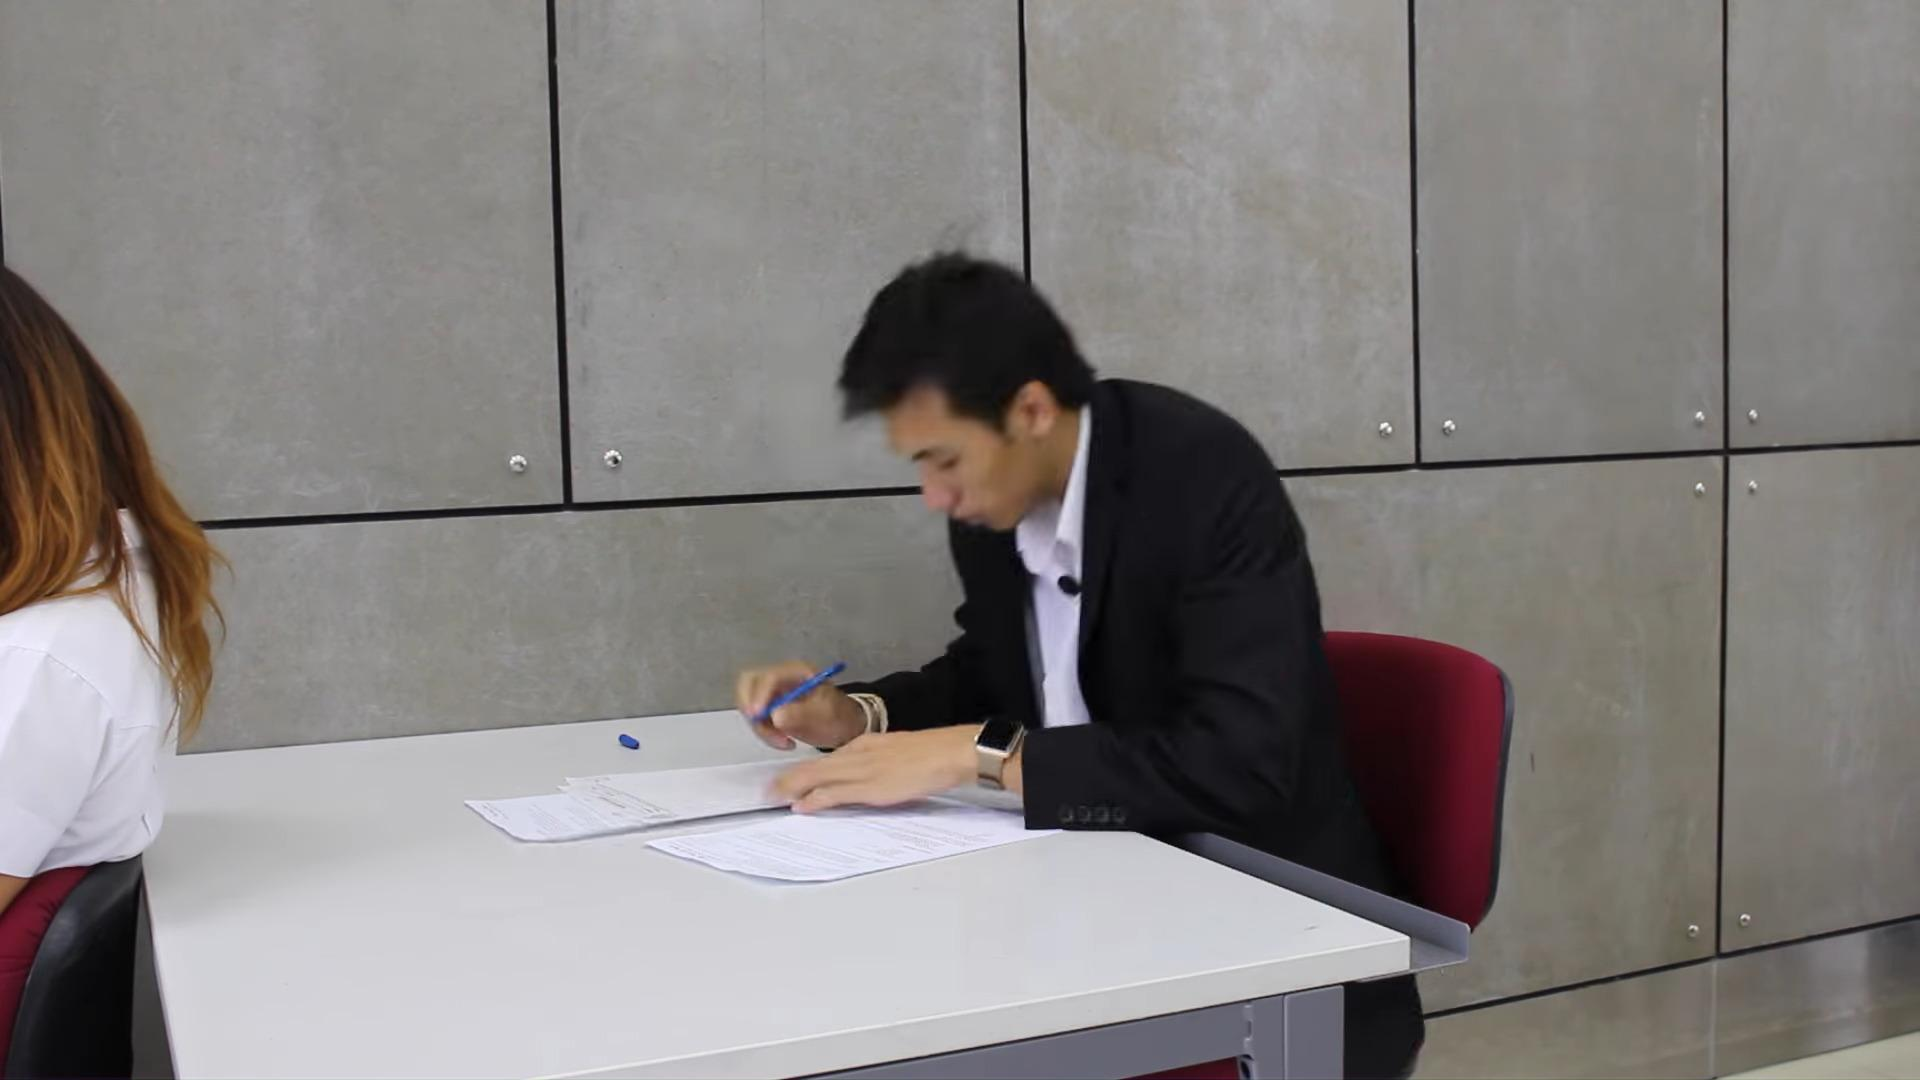good: (446, 214, 1373, 935)
